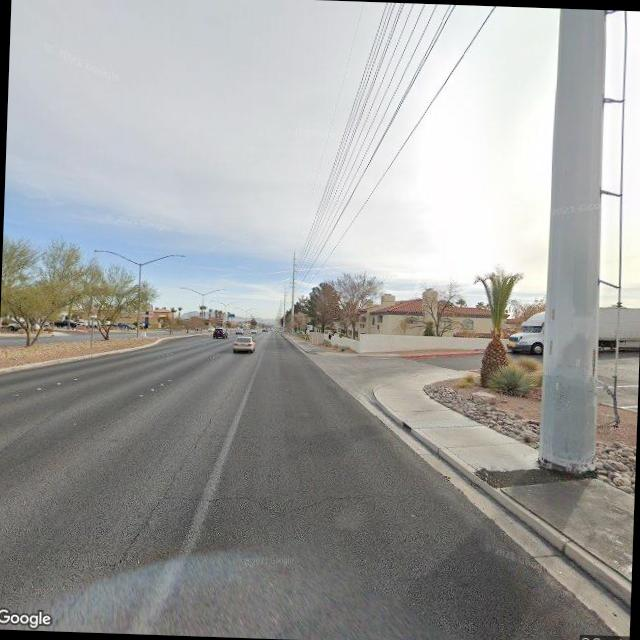crack: (164, 479, 365, 518)
